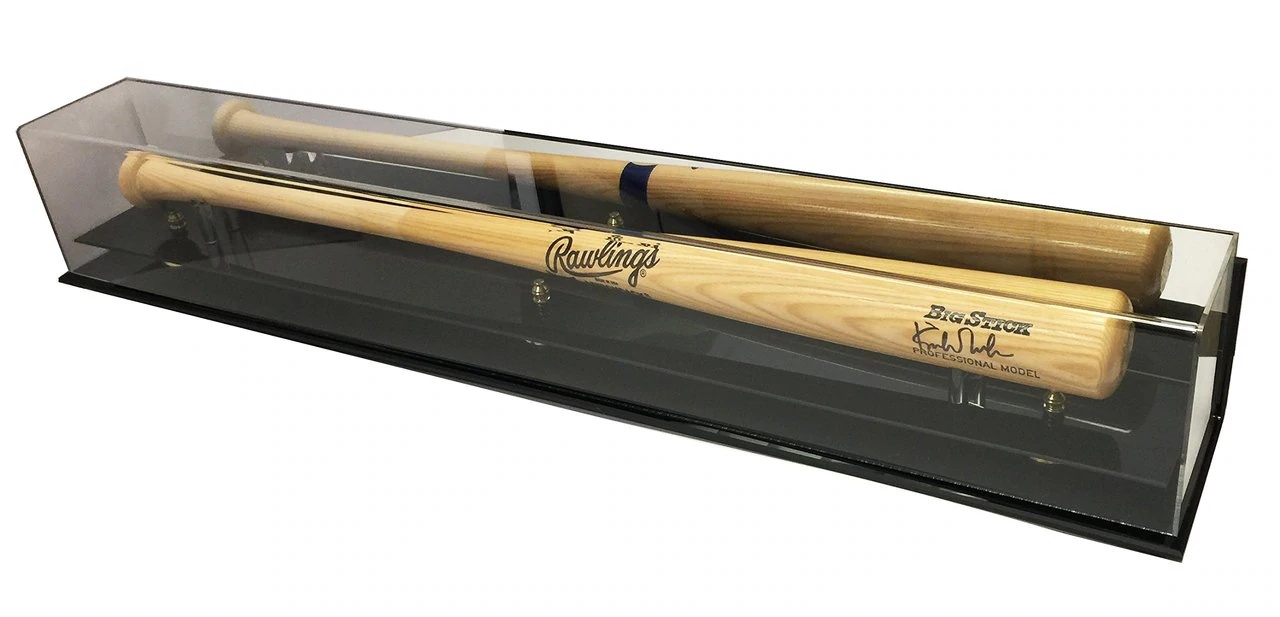bita: (125, 150, 1150, 387)
